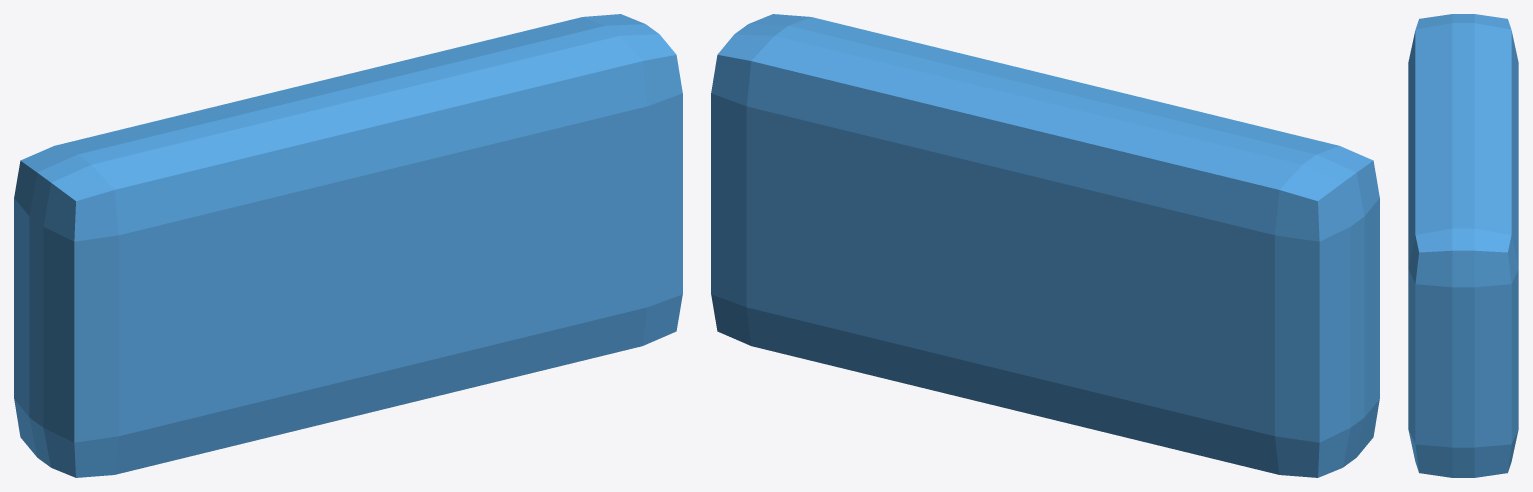
The model's file is waist__belt_buckle__driver_lo.glb.
3 views of the same model, side by side, from view 1: azimuth 30°, elevation 25°; view 2: azimuth 150°, elevation 25°; view 3: azimuth 270°, elevation 25° (orthographic). The views are drawn at different scales.
Parts seen in each view (by area): view 1: armor_topping_waist_belt_buckle_driver_lo_v001_v001; view 2: armor_topping_waist_belt_buckle_driver_lo_v001_v001; view 3: armor_topping_waist_belt_buckle_driver_lo_v001_v001.
Boxes of the visible parts, x1,y1,x2,y2 form: armor_topping_waist_belt_buckle_driver_lo_v001_v001: (14,14,682,477); armor_topping_waist_belt_buckle_driver_lo_v001_v001: (711,14,1379,477); armor_topping_waist_belt_buckle_driver_lo_v001_v001: (1408,14,1518,477).
Size of the model in its own units: 0.13 by 0.06 by 0.025.
